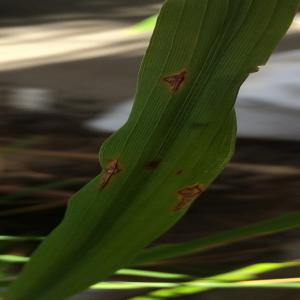Rice_Blast: (141, 41, 208, 104), (168, 163, 224, 216), (91, 137, 137, 198)
